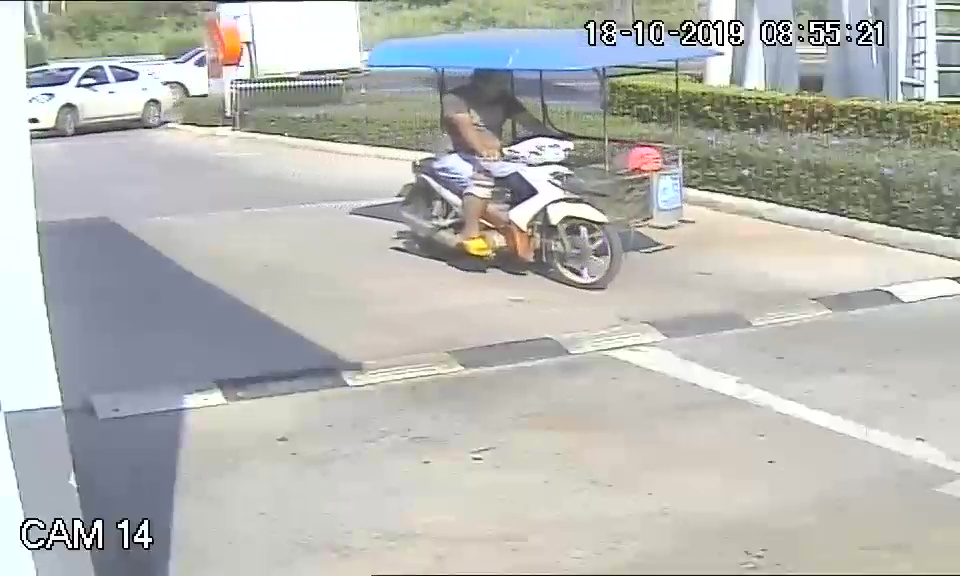motorcycle: (400, 135, 625, 292)
